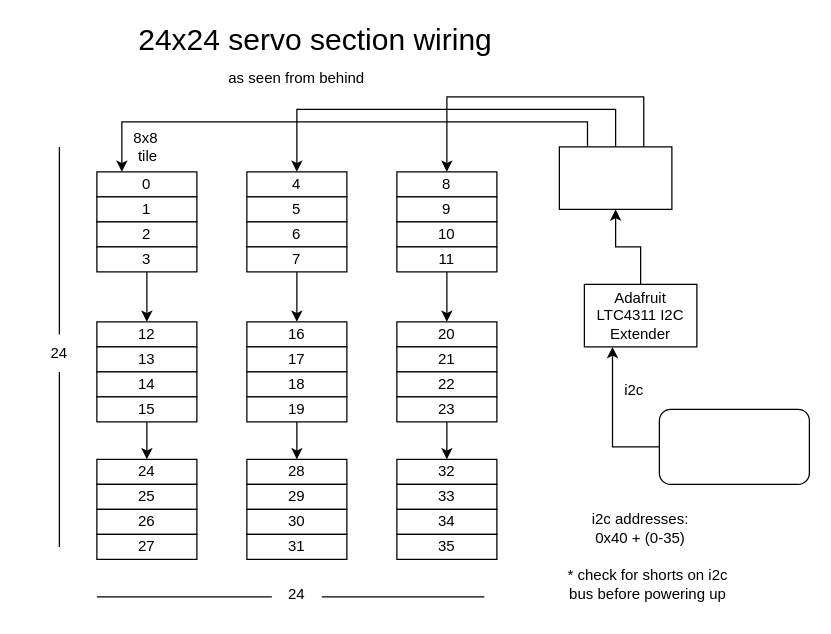
Some shapes in this 831 by 634 pixel diagram are drawn without their labels. The shapes that lost their labels are listed below. From the top down, each one's centre as x and y in pixels, then its label:
[615,177]: i2c bus splitter board
[733,446]: teensy 4
